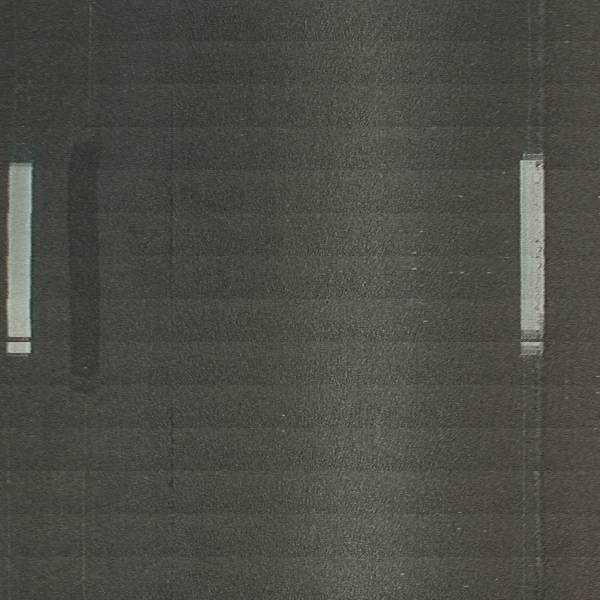road_damage: (166, 402, 182, 489)
